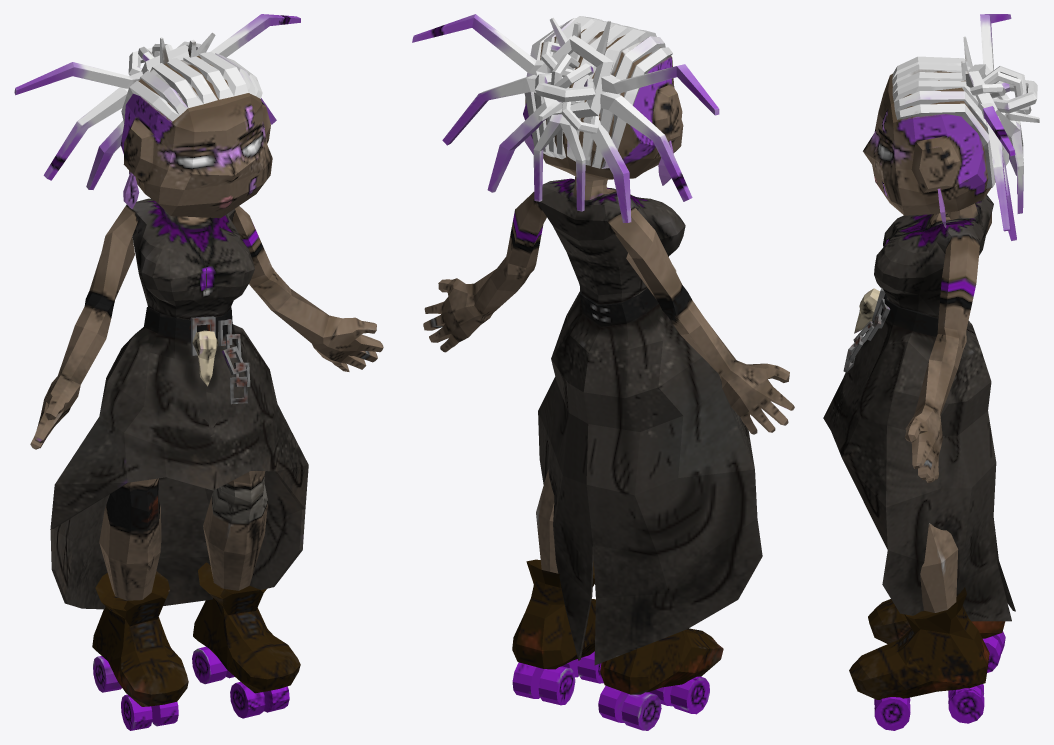
File: bruja_000087.obj
3 renders of one model, left to right at view 1: azimuth 30°, elevation 25°; view 2: azimuth 150°, elevation 25°; view 3: azimuth 270°, elevation 25°, orthographic. The views are drawn at different scales.
Visible parts, largest first — view 1: Bruja_Plane.001; view 2: Bruja_Plane.001; view 3: Bruja_Plane.001.
Part boxes in pixels (x1=…): Bruja_Plane.001: x1=14, y1=14, x2=383, y2=730; Bruja_Plane.001: x1=412, y1=14, x2=794, y2=730; Bruja_Plane.001: x1=823, y1=14, x2=1039, y2=730.
Bounding box in the file's own units: 9.06 × 16.45 × 4.93.
